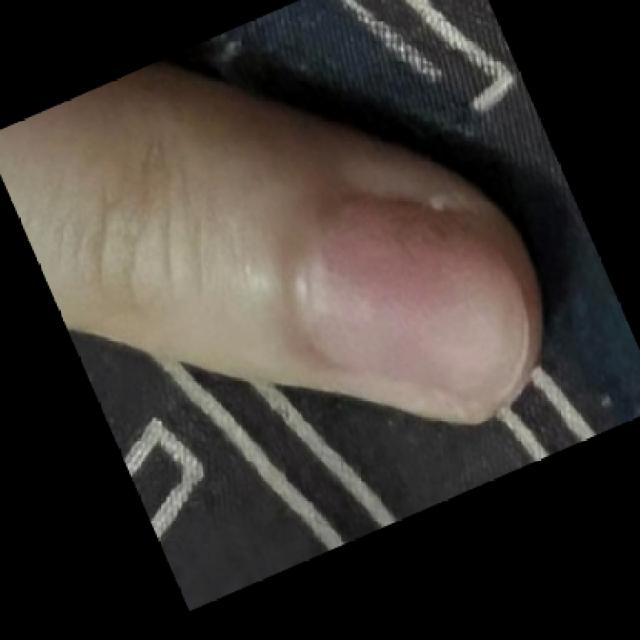Nail: (303, 199, 529, 406)
